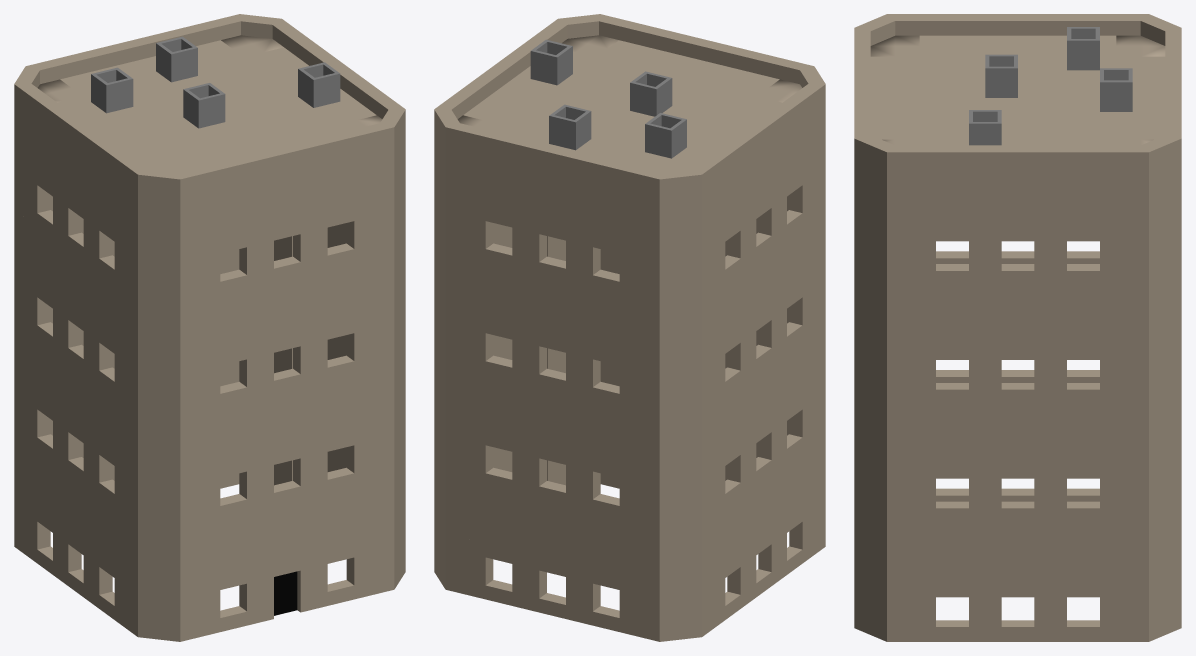
Rendered from Building1.fbx.
3 renders of one model, left to right at view 1: azimuth 30°, elevation 25°; view 2: azimuth 150°, elevation 25°; view 3: azimuth 270°, elevation 25°, orthographic. The views are drawn at different scales.
Parts seen in each view (by area): view 1: Wall corner.017, Wall corner.001, Wall corner.023, Wall corner.025, Wall corner.015, Wall corner.031, Wall corner.033, Wall corner.039, Wall.015, Wall.017, Wall.027, Wall.028 (+99 smaller); view 2: Wall corner.019, Wall corner.003, Wall corner.024, Wall corner.027, Wall corner.016, Wall corner.032, Wall corner.035, Wall corner.040, Wall, Wall.014, Wall.024, Wall.025 (+98 smaller); view 3: Wall.018, Wall.020, Wall.030, Wall.032, Wall.042, Wall.044, Wall corner.002, Wall corner.004, Wall corner.013, Wall corner.014, Wall.019, Wall corner.018 (+72 smaller).
Part boxes in pixels (x1,y1,x2,y2): Wall corner.017: [122, 458, 206, 529]; Wall corner.001: [122, 570, 206, 641]; Wall corner.023: [122, 402, 206, 473]; Wall corner.025: [122, 346, 206, 417]; Wall corner.015: [122, 514, 206, 585]; Wall corner.031: [122, 289, 206, 361]; Wall corner.033: [122, 233, 206, 305]; Wall corner.039: [122, 177, 206, 249]; Wall.015: [207, 510, 260, 579]; Wall.017: [314, 484, 367, 552]; Wall.027: [207, 398, 260, 466]; Wall.028: [260, 385, 313, 453]; Wall corner.019: [633, 458, 717, 529]; Wall corner.003: [633, 570, 717, 641]; Wall corner.024: [633, 402, 717, 473]; Wall corner.027: [633, 346, 717, 417]; Wall corner.016: [633, 514, 717, 585]; Wall corner.032: [633, 289, 717, 361]; Wall corner.035: [633, 233, 717, 305]; Wall corner.040: [633, 177, 717, 249]; Wall: [579, 510, 632, 579]; Wall.014: [472, 484, 525, 552]; Wall.024: [579, 398, 632, 466]; Wall.025: [526, 385, 579, 453]; Wall.018: [919, 523, 985, 582]; Wall.020: [1050, 523, 1116, 582]; Wall.030: [919, 404, 985, 463]; Wall.032: [1050, 404, 1116, 463]; Wall.042: [919, 286, 985, 345]; Wall.044: [1050, 286, 1116, 345]; Wall corner.002: [854, 569, 919, 641]; Wall corner.004: [1116, 569, 1181, 641]; Wall corner.013: [1116, 509, 1181, 582]; Wall corner.014: [854, 509, 919, 582]; Wall.019: [985, 523, 1050, 582]; Wall corner.018: [854, 450, 919, 523].
Size of the model in its own units: 2000 by 3401 by 2000.
